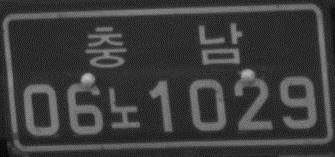0: (187, 76, 228, 134), (22, 81, 60, 139)
1: (147, 76, 178, 136)
2: (232, 74, 274, 132)
6: (65, 80, 105, 137)
9: (277, 74, 320, 132)
노: (105, 83, 141, 132)
충남_D: (81, 19, 244, 71)
